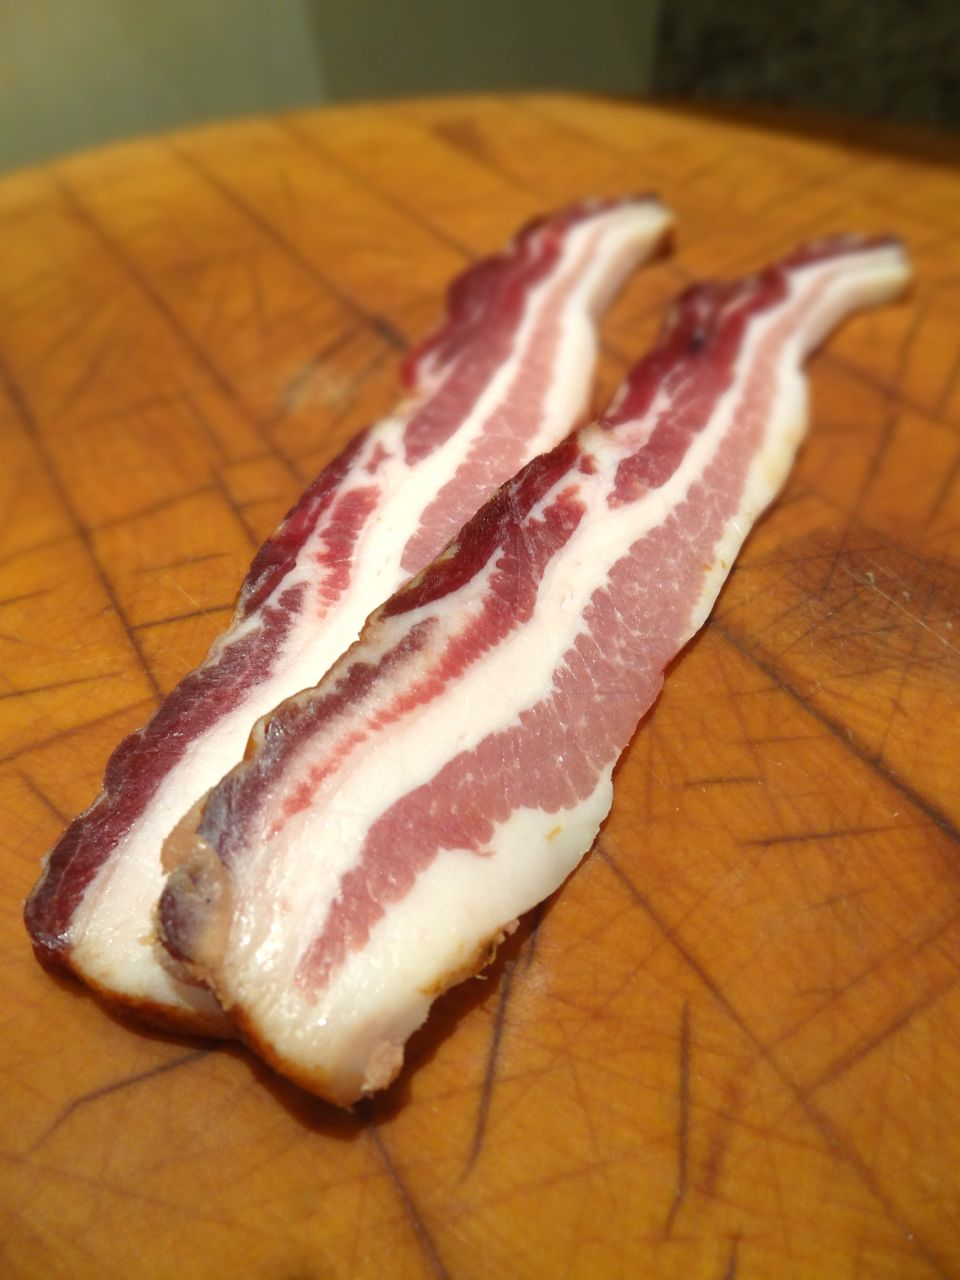bacon: (95, 112, 778, 1108)
